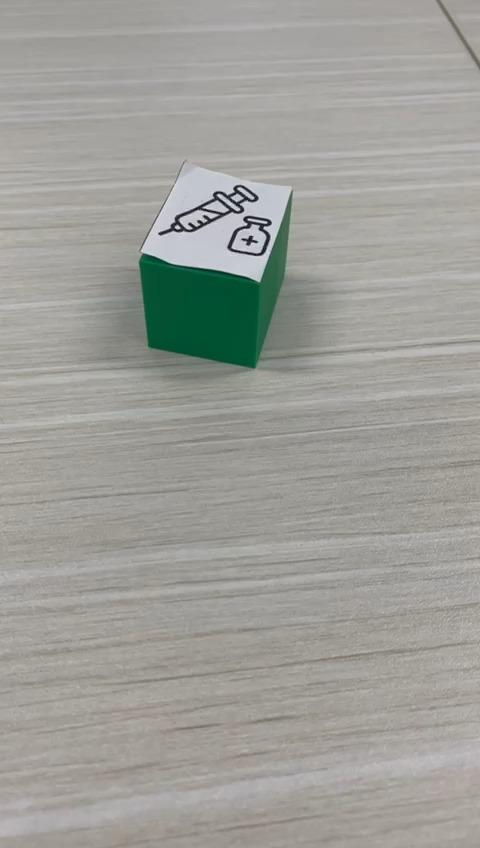antiseptic cream: (137, 158, 294, 369)
